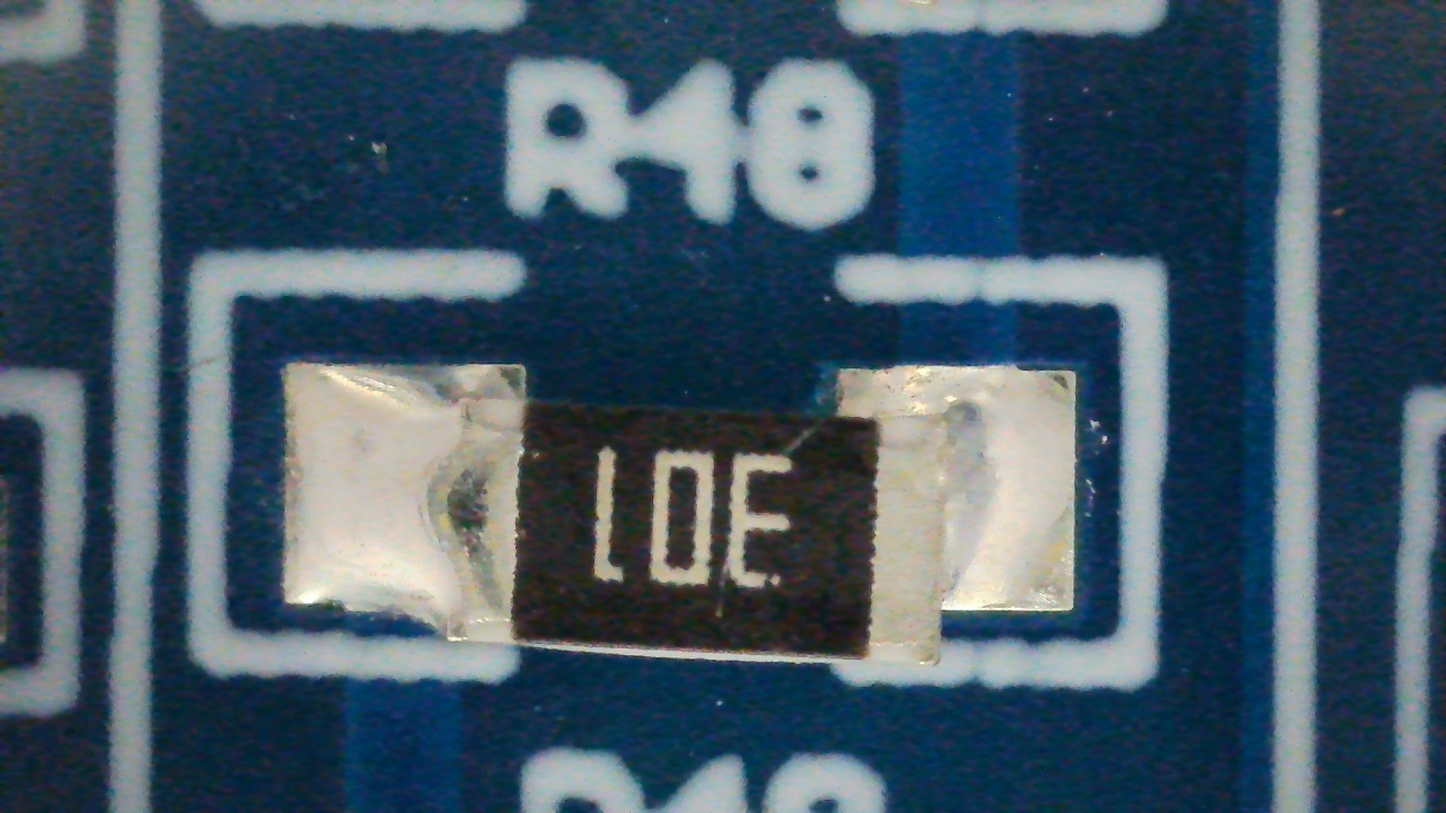NG: (285, 364, 1075, 667)
